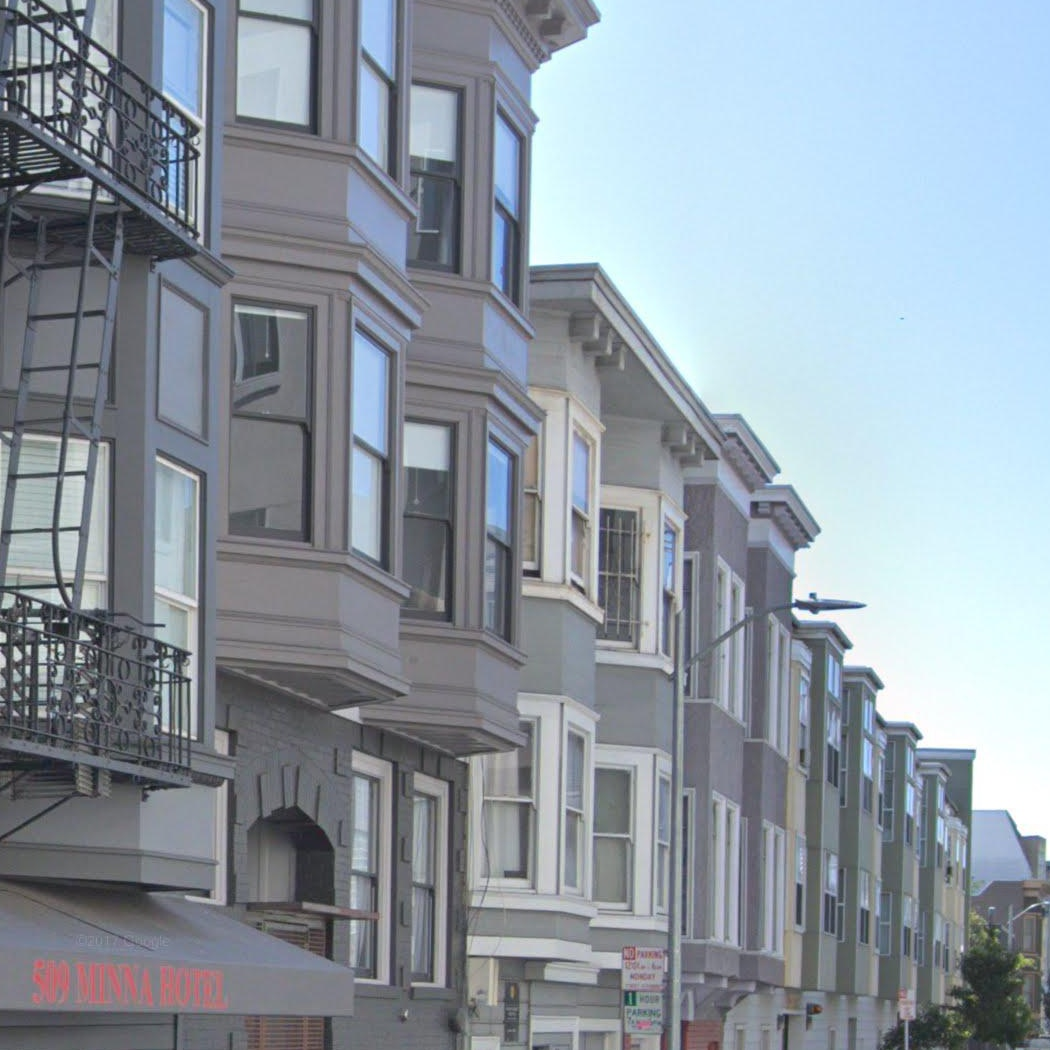1 Hour Parking: (620, 991, 665, 1035)
No Parking: (620, 945, 665, 991)
